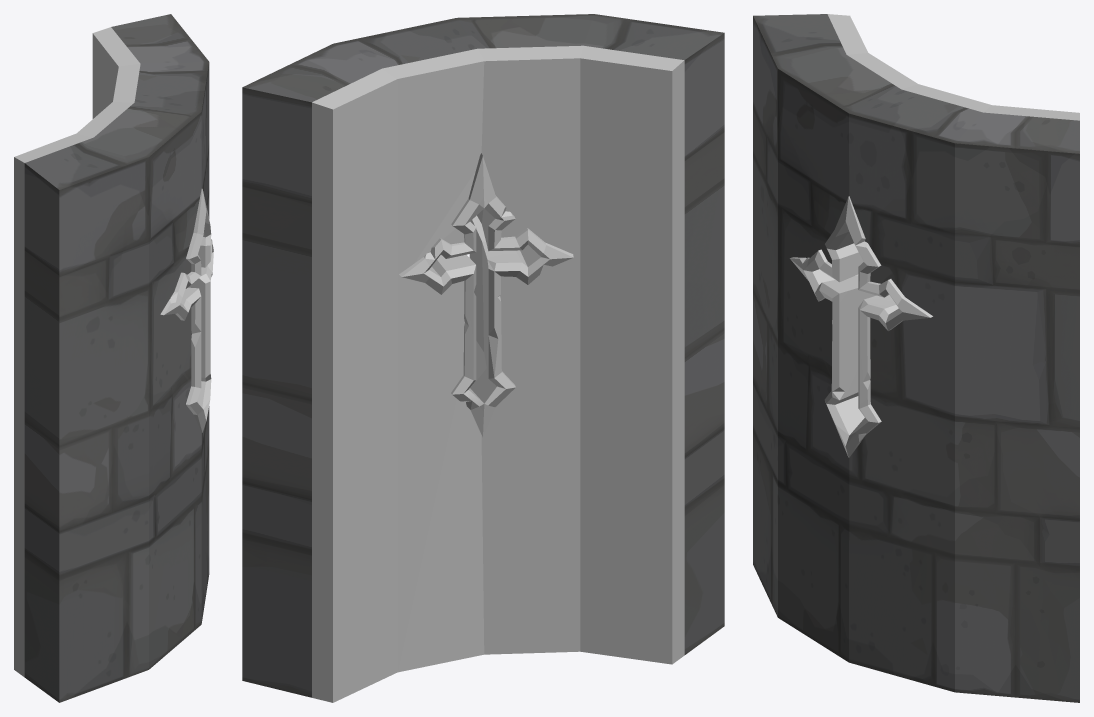
The model's file is SM_Bld_Wall_L_Curve_Window_01.fbx.
3 views of the same model, side by side, from view 1: azimuth 30°, elevation 25°; view 2: azimuth 150°, elevation 25°; view 3: azimuth 270°, elevation 25° (orthographic). The views are drawn at different scales.
Parts seen in each view (by area): view 1: SM_Bld_Wall_L_Curve_Window_01; view 2: SM_Bld_Wall_L_Curve_Window_01; view 3: SM_Bld_Wall_L_Curve_Window_01.
Boxes of the visible parts, <box> form: SM_Bld_Wall_L_Curve_Window_01: <box>14,14,213,702</box>; SM_Bld_Wall_L_Curve_Window_01: <box>242,14,724,702</box>; SM_Bld_Wall_L_Curve_Window_01: <box>753,14,1079,702</box>.
Size of the model in its own units: 324 by 602 by 324.
